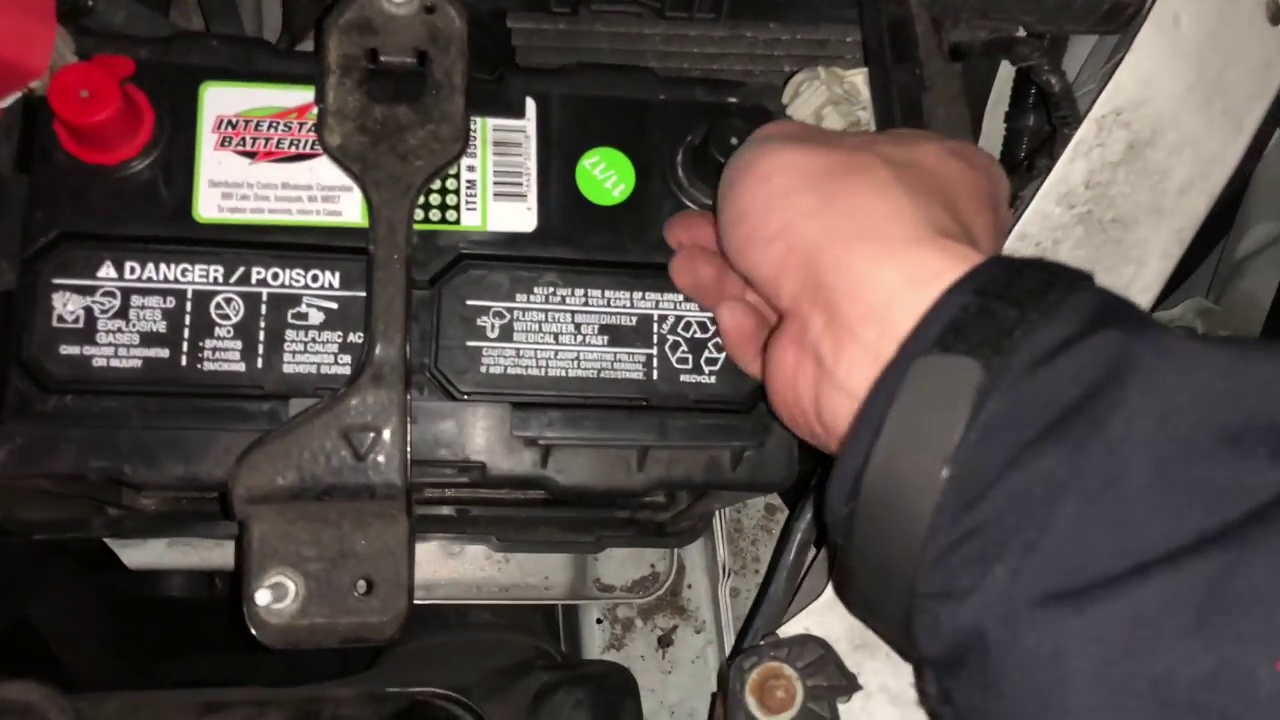battery: (18, 41, 783, 487)
